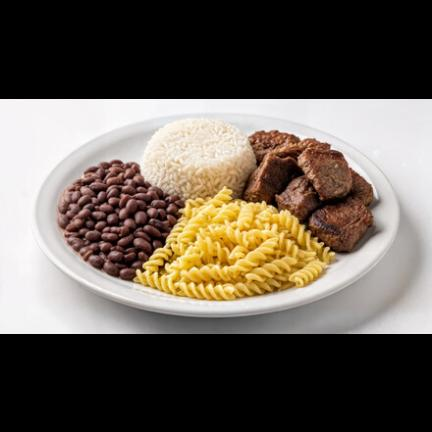beans: (57, 160, 182, 280)
meat: (244, 131, 374, 252)
pasta: (134, 188, 334, 299)
rice: (141, 119, 257, 199)
